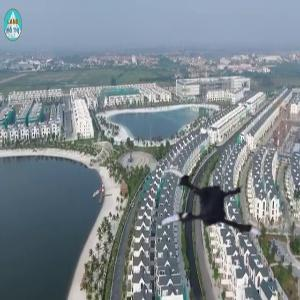drone: (143, 152, 265, 274)
